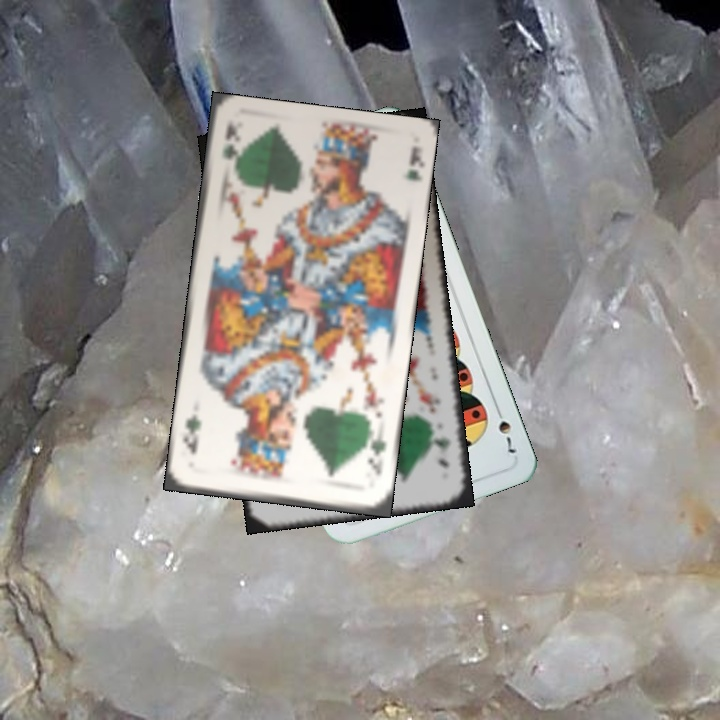GK: (363, 429, 390, 478), (219, 119, 240, 177), (430, 432, 452, 472)
S7: (491, 401, 519, 456)
